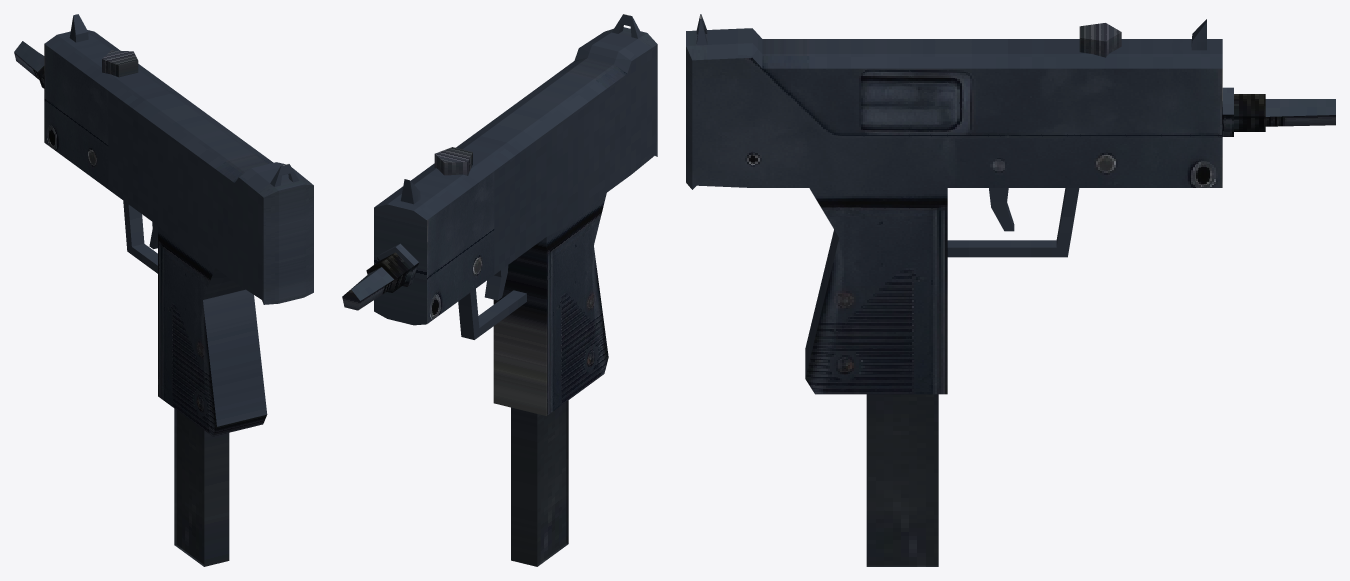
The model's file is smg.glb.
3 views of the same model, side by side, from view 1: azimuth 30°, elevation 25°; view 2: azimuth 150°, elevation 25°; view 3: azimuth 270°, elevation 25° (orthographic). The views are drawn at different scales.
Visible parts, largest first — view 1: smg; view 2: smg; view 3: smg.
Boxes of the visible parts, x1,y1,x2,y2 form: smg: [14, 14, 313, 566]; smg: [342, 14, 657, 566]; smg: [686, 14, 1335, 566].
Size of the model in its own units: 0.0345 by 0.2951 by 0.32.
2 materials, 2 textured.
